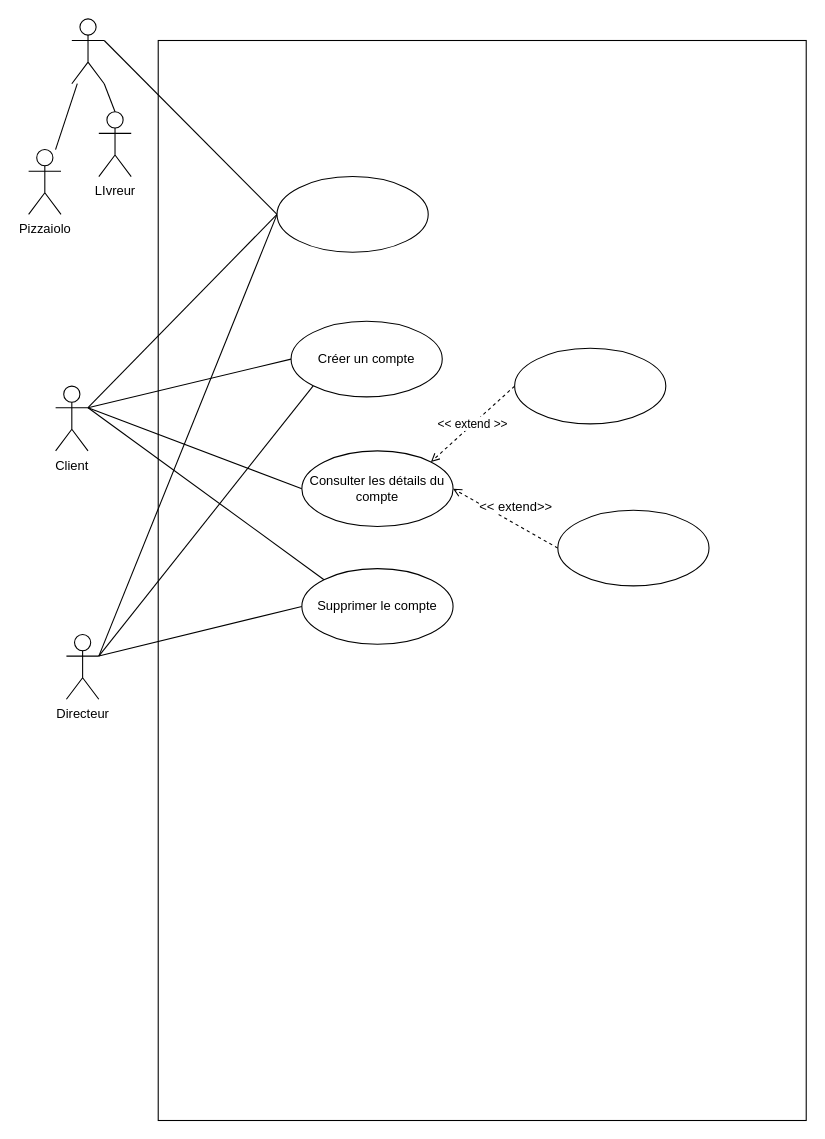
Image size: 825x1139. Some labels were removed from this diagram. The box of each missing label's shape, as (x1, y1, x2, y2) in pixels:
Consulter l'historique de commandes: (514, 347, 666, 424)
Consulter les commandes en cours: (557, 509, 709, 586)
Equipe: (71, 18, 104, 84)
Login: (276, 176, 428, 252)
